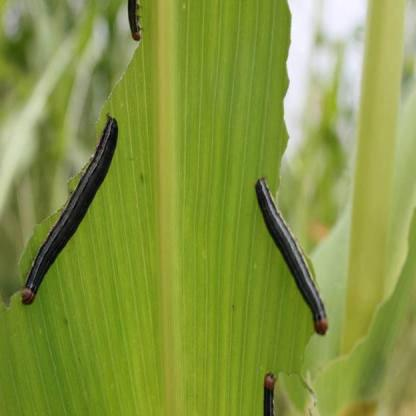armyworm: (18, 111, 118, 318), (254, 176, 334, 342), (261, 361, 278, 416), (127, 0, 145, 44)
